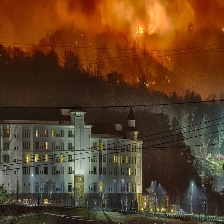fire: (133, 25, 145, 35)
smoke: (57, 1, 193, 27)
